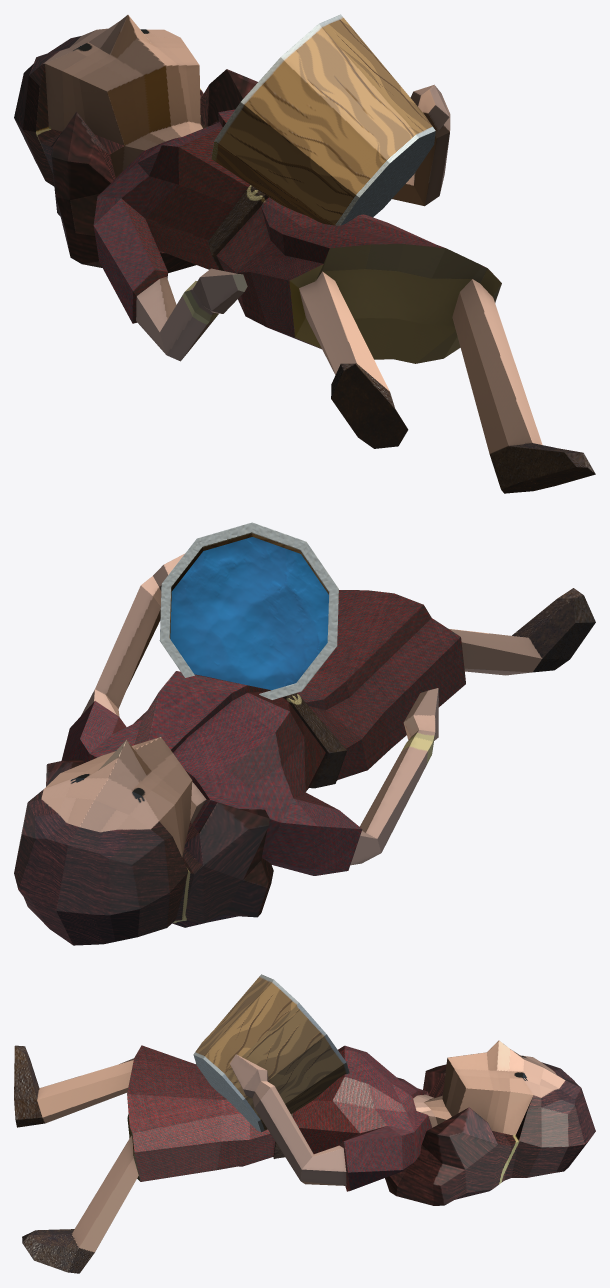
File: Walk_Aldeana_10.obj
The picture shows the model from 3 angles, top to bottom: view 1: azimuth 30°, elevation 25°; view 2: azimuth 150°, elevation 25°; view 3: azimuth 270°, elevation 25°; orthographic projection. The views are drawn at different scales.
Visible parts, largest first — view 1: Aldeana.001; view 2: Aldeana.001; view 3: Aldeana.001.
Part boxes in pixels (x1,y1,x2,y2): Aldeana.001: (14,14,595,493); Aldeana.001: (14,522,595,945); Aldeana.001: (14,974,595,1273).
Size of the model in its own units: 1.05 by 1.21 by 2.37.
